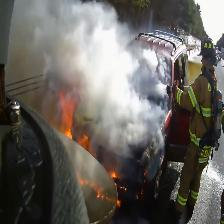fire: (61, 92, 76, 140), (78, 134, 97, 161), (111, 172, 117, 177)
